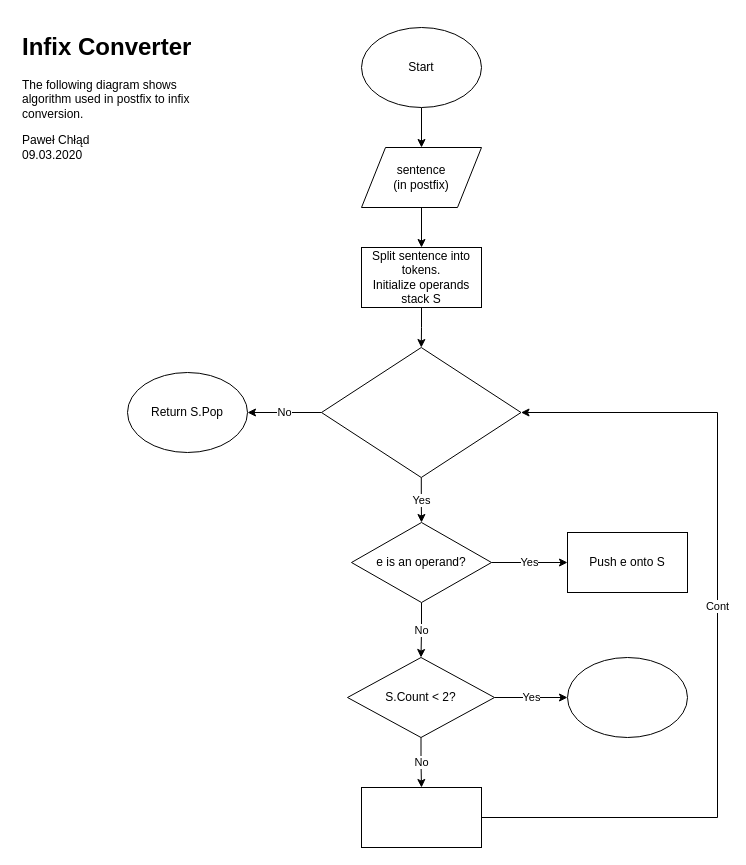
Some shapes in this 746 by 865 pixel diagram are drawn without their labels. Each missing label, with the centre of its shape:
"Are there any tokens left? Current Token = e" belongs at pixel 420 412.
"Push onto S S.Pop + e + S.Pop" belongs at pixel 421 817.
"throw Exception Not enough operands!" belongs at pixel 627 697.
